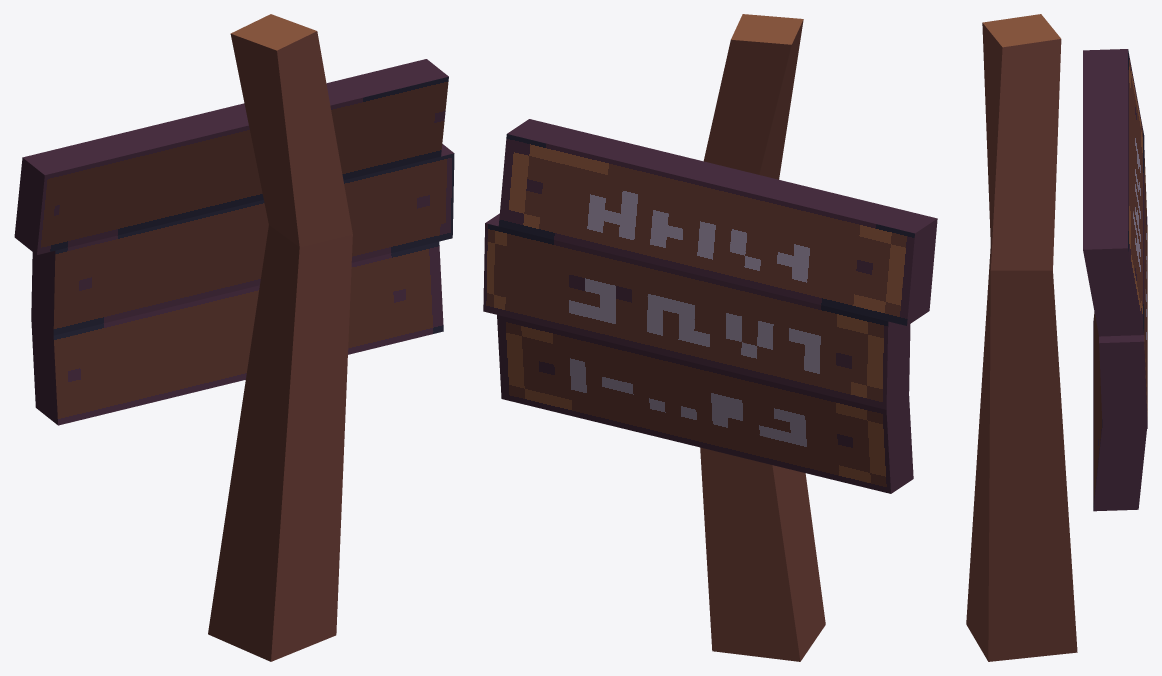
Rendered from sign.glb.
3 renders of one model, left to right at view 1: azimuth 30°, elevation 25°; view 2: azimuth 150°, elevation 25°; view 3: azimuth 270°, elevation 25°, orthographic.
Parts seen in each view (by area): view 1: Cube; view 2: Cube; view 3: Cube.
Part boxes in pixels (left/top/right/bottom): Cube: left=14, top=14, right=454, bottom=661; Cube: left=483, top=14, right=937, bottom=661; Cube: left=966, top=14, right=1147, bottom=661.
Bounding box in the file's own units: 2.21 × 3.04 × 0.8227.
Materials: 1 (1 with a texture image).
